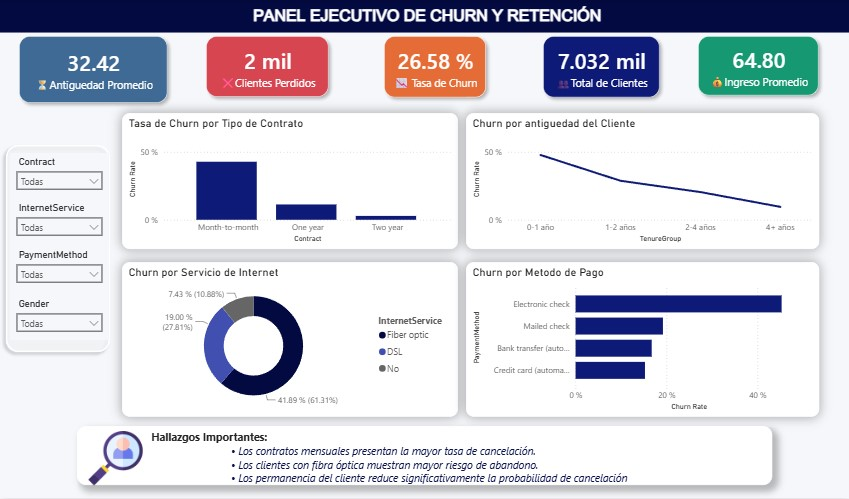

The page's visual inventory and layout, read from the dashboard file:
{"tool":"powerbi","page":{"name":"Resumen Ejecutivo","canvas":[1280,720],"ordinal":0},"visuals":[{"type":"shape","box":[0,209.3,174.7,329.8],"z":0},{"type":"shape","box":[116,641.5,1046.6,78.3],"z":0,"group":"g1"},{"type":"cardVisual","fields":{"Data":["WA_Fn-UseC_-Telco-Customer-Churn.Ingreso Promedio"]},"box":[1022.5,25.6,239.4,147.6],"z":1000},{"type":"cardVisual","fields":{"Data":["WA_Fn-UseC_-Telco-Customer-Churn.Churn Rate"]},"box":[549.9,25.3,211.8,150.1],"z":2000},{"type":"cardVisual","fields":{"Data":["Avg(WA_Fn-UseC_-Telco-Customer-Churn.Tenure)"]},"box":[0,25.6,281.6,158.1],"z":3000},{"type":"donutChart","title":"Churn por Servicio de Internet","fields":{"Category":["WA_Fn-UseC_-Telco-Customer-Churn.InternetService"],"Y":["WA_Fn-UseC_-Telco-Customer-Churn.Churn Rate"]},"box":[183.7,394.5,506,233.4],"z":4000},{"type":"clusteredBarChart","title":"Churn por Metodo de Pago","fields":{"Category":["WA_Fn-UseC_-Telco-Customer-Churn.PaymentMethod"],"Y":["WA_Fn-UseC_-Telco-Customer-Churn.Churn Rate"]},"box":[701.7,394.5,531.6,233.4],"z":5000},{"type":"cardVisual","fields":{"Data":["WA_Fn-UseC_-Telco-Customer-Churn.Clientes Cancelaron"]},"box":[281.6,25.6,242.4,149.1],"z":6000},{"type":"cardVisual","fields":{"Data":["CountNonNull(WA_Fn-UseC_-Telco-Customer-Churn.Gender)"]},"box":[788.5,25.3,233.9,150.1],"z":7000},{"type":"clusteredColumnChart","title":"Tasa de Churn por Tipo de Contrato","fields":{"Category":["WA_Fn-UseC_-Telco-Customer-Churn.Contract"],"Y":["WA_Fn-UseC_-Telco-Customer-Churn.Churn Rate"]},"box":[183.7,170.2,506,204.8],"z":8000},{"type":"slicer","fields":{"Values":["WA_Fn-UseC_-Telco-Customer-Churn.Contract"]},"box":[15.1,230.4,149.1,69.3],"z":9000},{"type":"slicer","fields":{"Values":["WA_Fn-UseC_-Telco-Customer-Churn.InternetService"]},"box":[15.1,299.7,149.1,75.3],"z":10000},{"type":"slicer","fields":{"Values":["WA_Fn-UseC_-Telco-Customer-Churn.PaymentMethod"]},"box":[15.1,370.4,149.1,73.8],"z":11000},{"type":"slicer","fields":{"Values":["WA_Fn-UseC_-Telco-Customer-Churn.Gender"]},"box":[15.1,444.2,149.1,67.8],"z":12000},{"type":"textbox","box":[232,641.5,930.6,78.3],"z":12000,"group":"g1"},{"type":"lineChart","title":"Churn por antiguedad del Cliente","fields":{"Category":["WA_Fn-UseC_-Telco-Customer-Churn.TenureGroup"],"Y":["WA_Fn-UseC_-Telco-Customer-Churn.Churn Rate"]},"box":[701.7,170.2,531.6,204.8],"z":13000},{"type":"textbox","box":[0,0,1280,49],"z":14000},{"type":"group","id":"g1","title":"Grupo 1","box":[116,641.5,1046.6,78.3],"z":15000},{"type":"image","box":[116,647.5,116,72.3],"z":16001,"group":"g1"}]}

Visuals, with their boxes on the page's 1280x720 design canvas (x1, y1, x2, y2). These are canvas units, not pixel positions in the 849x499 screenshot, which may show the page scaled, cropped or inside an application window:
shape: (0,209,175,539)
shape: (116,642,1163,720)
cardVisual - WA_Fn-UseC_-Telco-Customer-Churn.Ingreso Promedio: (1022,26,1262,173)
cardVisual - WA_Fn-UseC_-Telco-Customer-Churn.Churn Rate: (550,25,762,175)
cardVisual - Avg(WA_Fn-UseC_-Telco-Customer-Churn.Tenure): (0,26,282,184)
"Churn por Servicio de Internet" donutChart: (184,394,690,628)
"Churn por Metodo de Pago" clusteredBarChart: (702,394,1233,628)
cardVisual - WA_Fn-UseC_-Telco-Customer-Churn.Clientes Cancelaron: (282,26,524,175)
cardVisual - CountNonNull(WA_Fn-UseC_-Telco-Customer-Churn.Gender): (788,25,1022,175)
"Tasa de Churn por Tipo de Contrato" clusteredColumnChart: (184,170,690,375)
slicer - WA_Fn-UseC_-Telco-Customer-Churn.Contract: (15,230,164,300)
slicer - WA_Fn-UseC_-Telco-Customer-Churn.InternetService: (15,300,164,375)
slicer - WA_Fn-UseC_-Telco-Customer-Churn.PaymentMethod: (15,370,164,444)
slicer - WA_Fn-UseC_-Telco-Customer-Churn.Gender: (15,444,164,512)
textbox: (232,642,1163,720)
"Churn por antiguedad del Cliente" lineChart: (702,170,1233,375)
textbox: (0,0,1280,49)
"Grupo 1" group: (116,642,1163,720)
image: (116,648,232,720)
